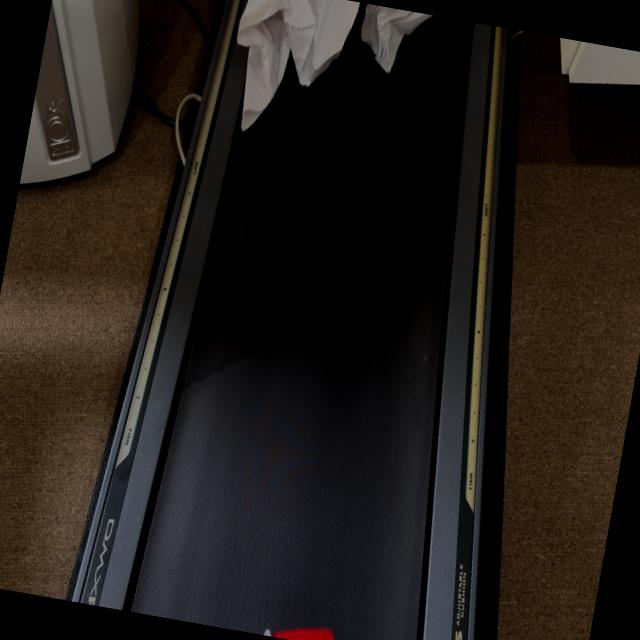Recycle: (218, 0, 433, 159)
